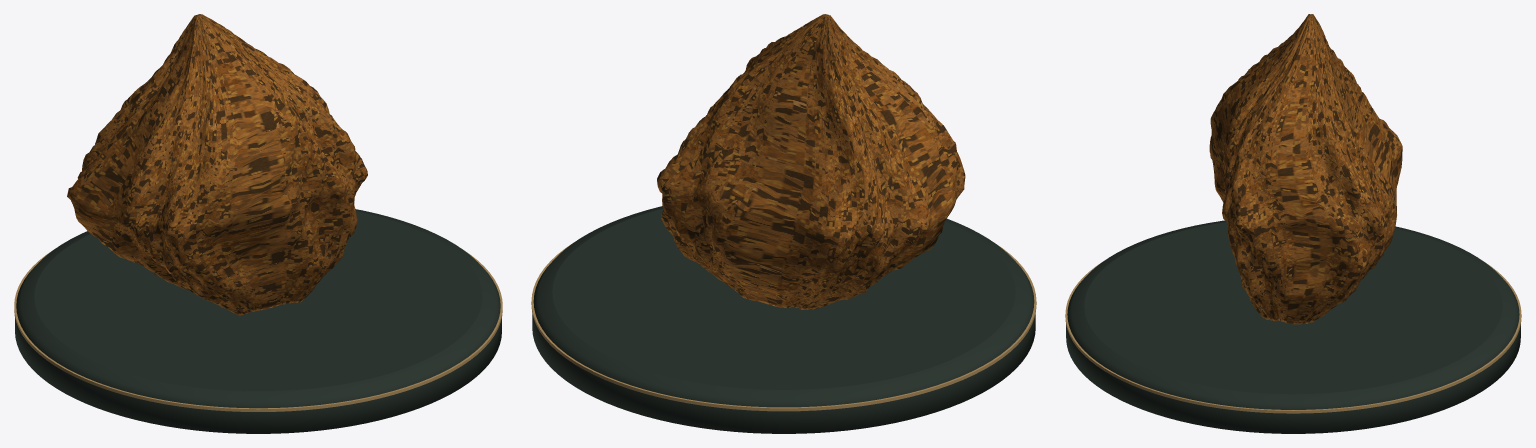
The model's file is lingstone-concept-03-v191-629835d87f33.glb.
3 views of the same model, side by side, from view 1: azimuth 30°, elevation 25°; view 2: azimuth 150°, elevation 25°; view 3: azimuth 270°, elevation 25° (orthographic). The views are drawn at different scales.
Parts seen in each view (by area): view 1: Centered beveled display plinth, XY-CONCEPT-003 concept stone, Champagne gold edge; view 2: Centered beveled display plinth, XY-CONCEPT-003 concept stone, Champagne gold edge; view 3: Centered beveled display plinth, XY-CONCEPT-003 concept stone, Champagne gold edge.
Boxes of the visible parts, box(x1,y1,x2,y2) form: Centered beveled display plinth: box(15, 209, 501, 433); XY-CONCEPT-003 concept stone: box(67, 14, 367, 315); Champagne gold edge: box(14, 248, 502, 411); Centered beveled display plinth: box(532, 206, 1035, 433); XY-CONCEPT-003 concept stone: box(657, 14, 965, 309); Champagne gold edge: box(531, 242, 1036, 411); Centered beveled display plinth: box(1066, 220, 1520, 433); XY-CONCEPT-003 concept stone: box(1209, 14, 1402, 324); Champagne gold edge: box(1065, 263, 1521, 413).
Bounding box in the file's own units: 2.26 × 1.66 × 2.26.
Materials: 3 (1 with a texture image).
